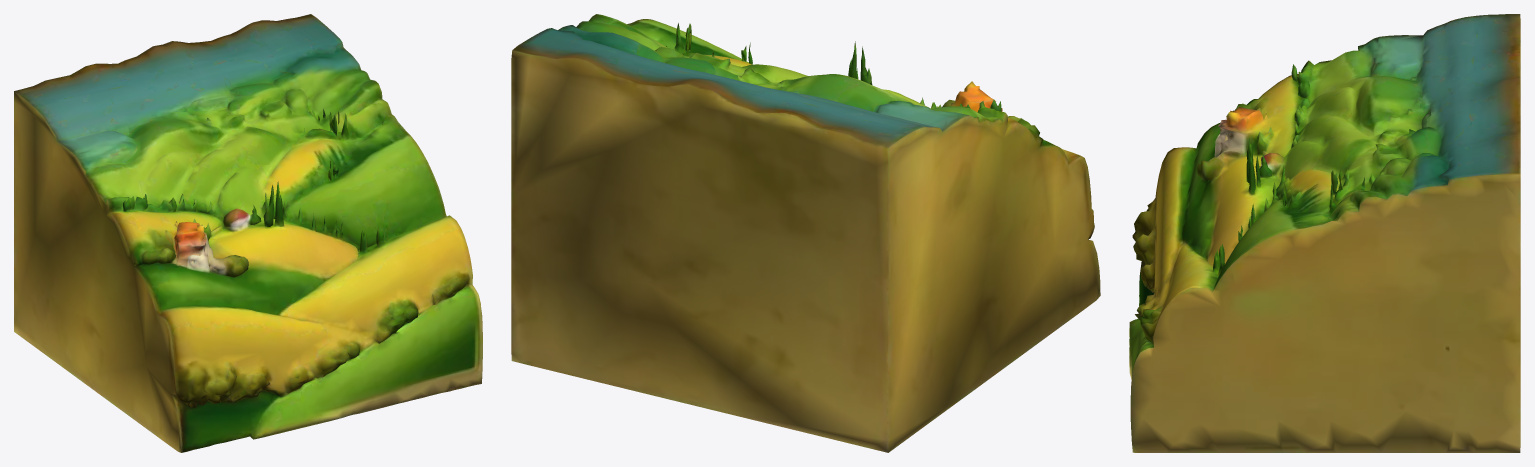
File: 17_landscape_painting.glb
3 views of the same model, side by side, from view 1: azimuth 30°, elevation 25°; view 2: azimuth 150°, elevation 25°; view 3: azimuth 270°, elevation 25° (orthographic). The views are drawn at different scales.
Parts seen in each view (by area): view 1: geometry_0; view 2: geometry_0; view 3: geometry_0.
Boxes of the visible parts, x1,y1,x2,y2 form: geometry_0: [14, 14, 482, 452]; geometry_0: [511, 14, 1100, 452]; geometry_0: [1129, 14, 1520, 452].
Bounding box in the file's own units: 1.9 × 1.54 × 1.9.
Materials: 1 (1 with a texture image).
